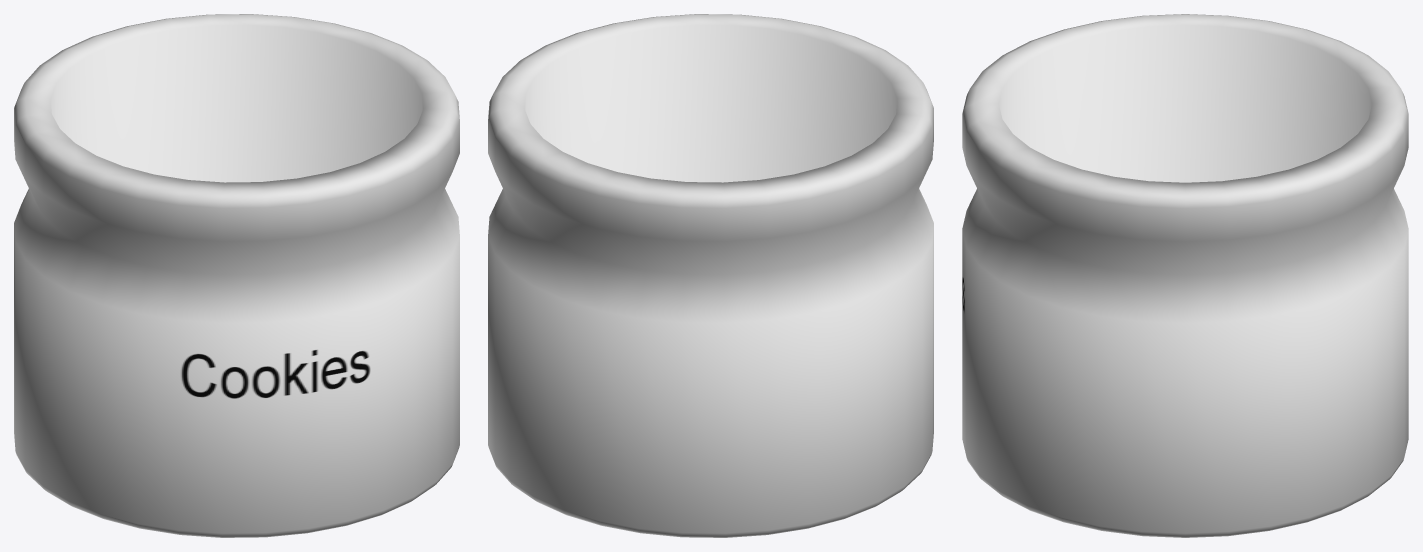
File: CookieJar_Base.FBX
3 views of the same model, side by side, from view 1: azimuth 30°, elevation 25°; view 2: azimuth 150°, elevation 25°; view 3: azimuth 270°, elevation 25° (orthographic).
Parts seen in each view (by area): view 1: CookieJar_Base; view 2: CookieJar_Base; view 3: CookieJar_Base.
Boxes of the visible parts, x1=… form: CookieJar_Base: x1=14, y1=14, x2=459, y2=537; CookieJar_Base: x1=488, y1=14, x2=933, y2=537; CookieJar_Base: x1=962, y1=14, x2=1408, y2=537.
Size of what is drawn, in the model's own units: 24 by 24 by 20.31.
